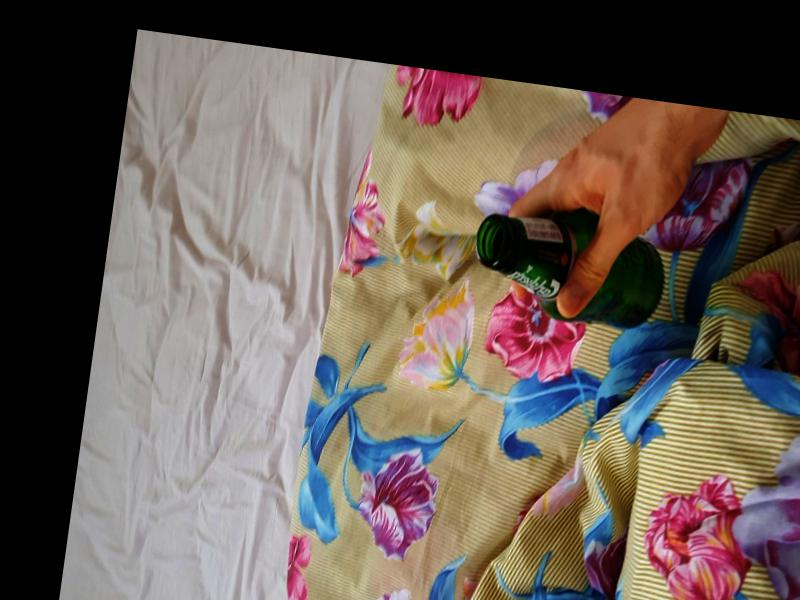Beer: (470, 194, 672, 331)
